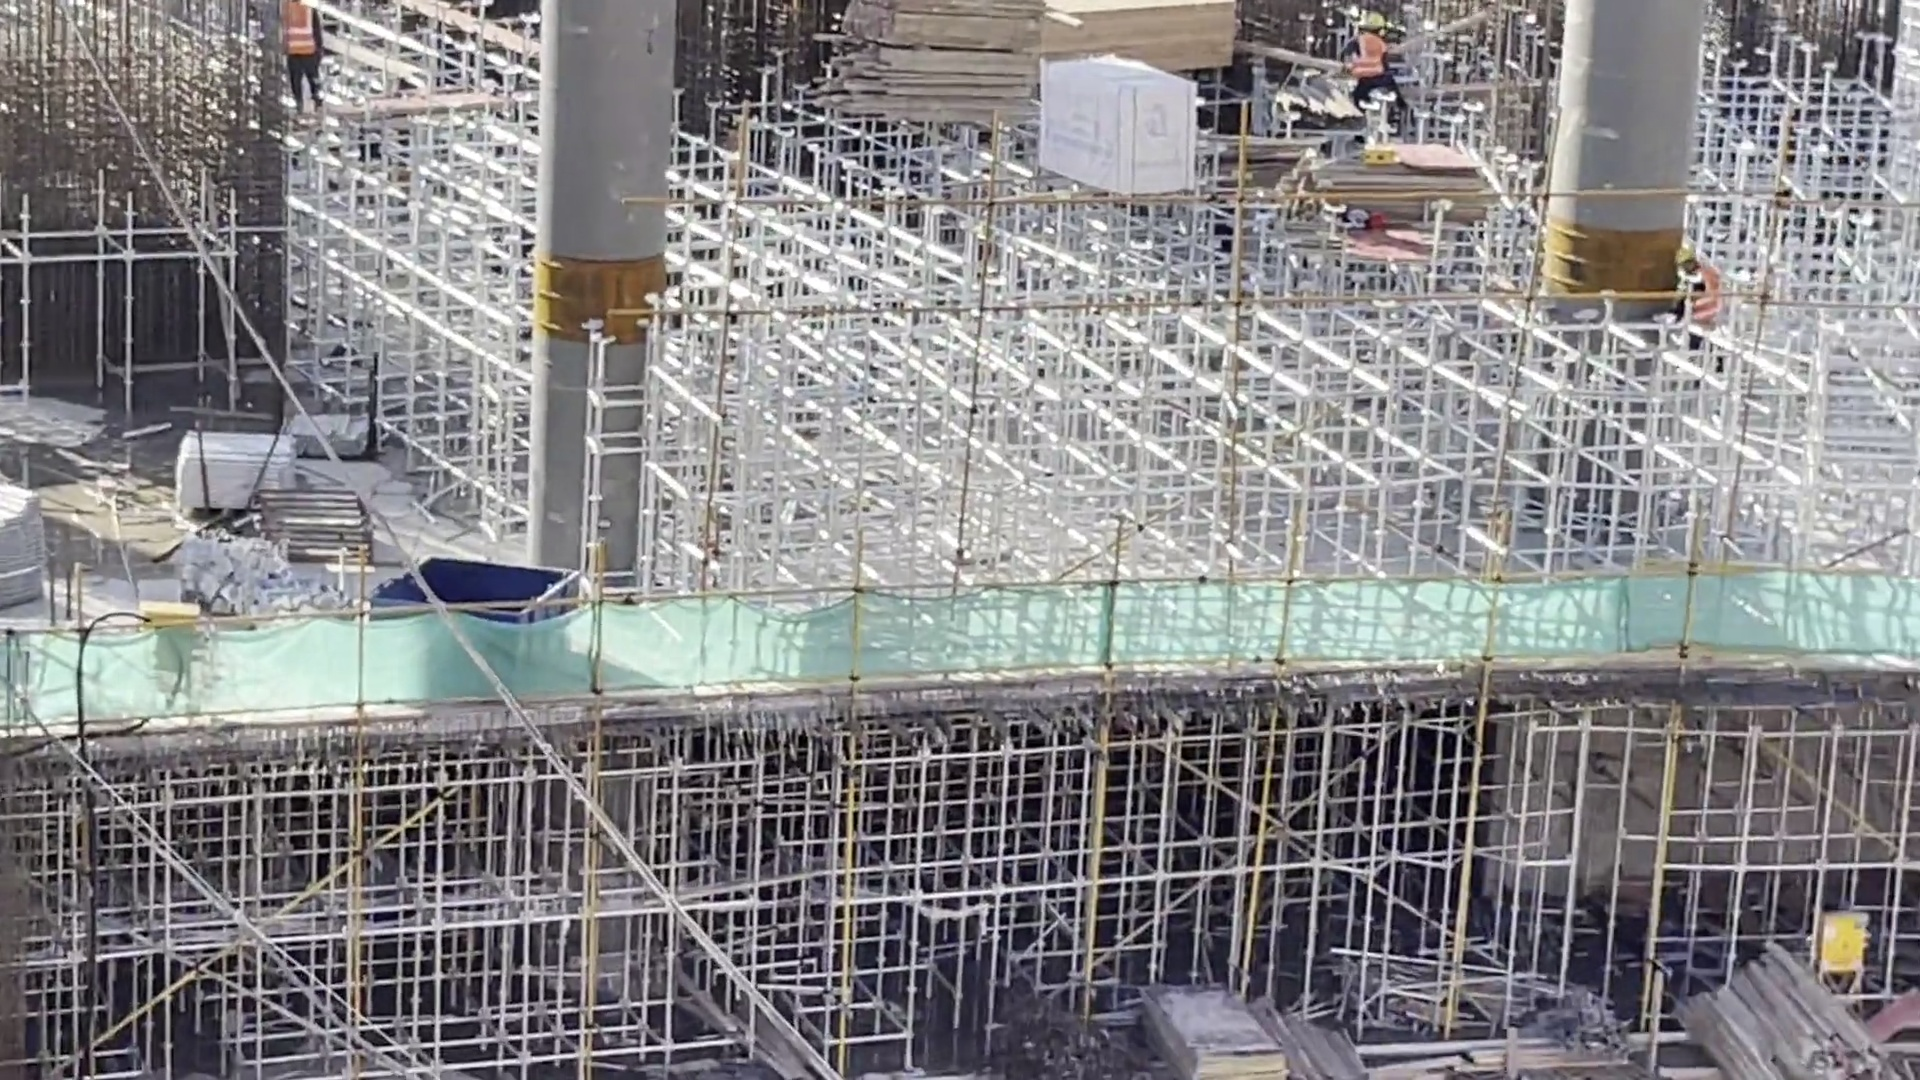board: (1284, 142, 1485, 237), (1147, 979, 1285, 1080)
ebox: (141, 599, 204, 681), (1817, 909, 1872, 997)
helmet: (1356, 11, 1387, 29), (1673, 245, 1697, 266)
hopper: (360, 555, 582, 627)
person: (1339, 5, 1407, 118), (278, 1, 328, 141), (1674, 241, 1726, 338)
scaffold: (166, 432, 292, 520), (1, 480, 58, 598)
vest: (1688, 266, 1724, 330), (1349, 34, 1390, 82), (285, 1, 316, 62)
wood: (820, 1, 1035, 127), (1676, 942, 1863, 1080), (1033, 1, 1238, 78)
